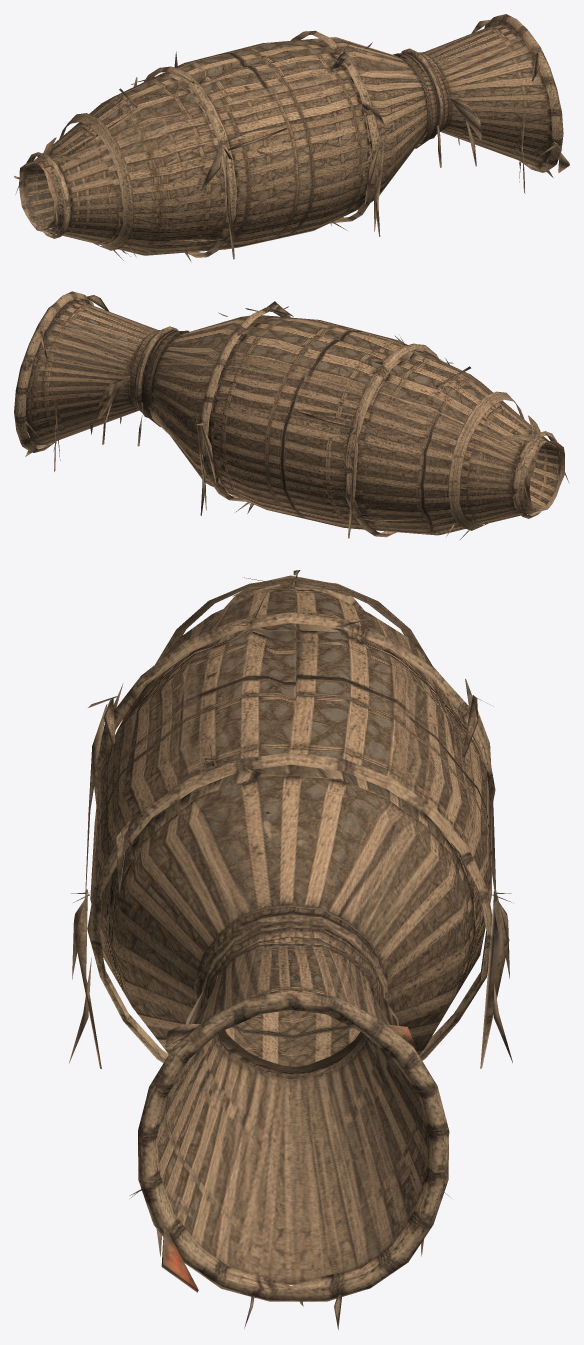
The model's file is Meshy_AI_Woven_Fish_Trap_20261028_texture.fbx.
3 renders of one model, top to bottom at view 1: azimuth 30°, elevation 25°; view 2: azimuth 150°, elevation 25°; view 3: azimuth 270°, elevation 25°, orthographic. The views are drawn at different scales.
Visible parts, largest first — view 1: Mesh_0; view 2: Mesh_0; view 3: Mesh_0.
Boxes of the visible parts, <box> form: Mesh_0: <box>14,14,569,261</box>; Mesh_0: <box>14,291,569,540</box>; Mesh_0: <box>69,570,512,1329</box>.
Size of the model in its own units: 95.41 by 34.67 by 35.94.
Materials: 1 (1 with a texture image).
